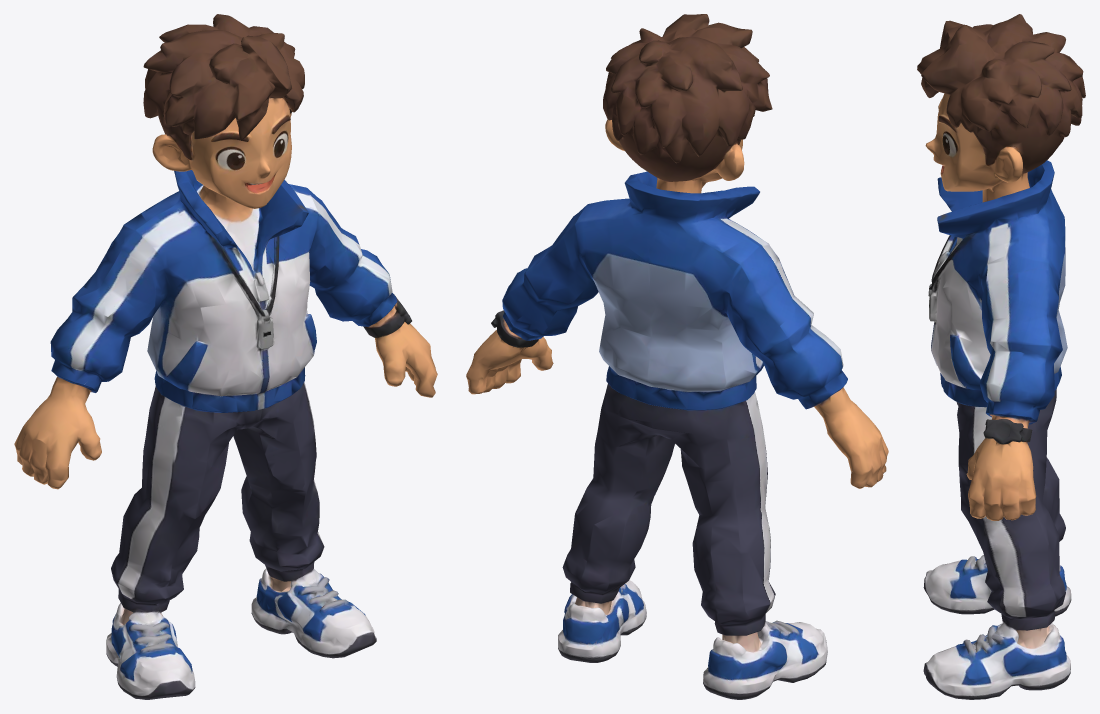
File: boy.glb
3 views of the same model, side by side, from view 1: azimuth 30°, elevation 25°; view 2: azimuth 150°, elevation 25°; view 3: azimuth 270°, elevation 25° (orthographic). The views are drawn at different scales.
Visible parts, largest first — view 1: tripo_node_3889fe99-94d7-4464-9c2f-89f9e4526807; view 2: tripo_node_3889fe99-94d7-4464-9c2f-89f9e4526807; view 3: tripo_node_3889fe99-94d7-4464-9c2f-89f9e4526807.
Part boxes in pixels (x1,y1,x2,y2): tripo_node_3889fe99-94d7-4464-9c2f-89f9e4526807: [14, 14, 437, 699]; tripo_node_3889fe99-94d7-4464-9c2f-89f9e4526807: [466, 14, 888, 699]; tripo_node_3889fe99-94d7-4464-9c2f-89f9e4526807: [917, 14, 1085, 699].
Bounding box in the file's own units: 0.6707 × 1 × 0.2476.
1 material, 1 textured.
